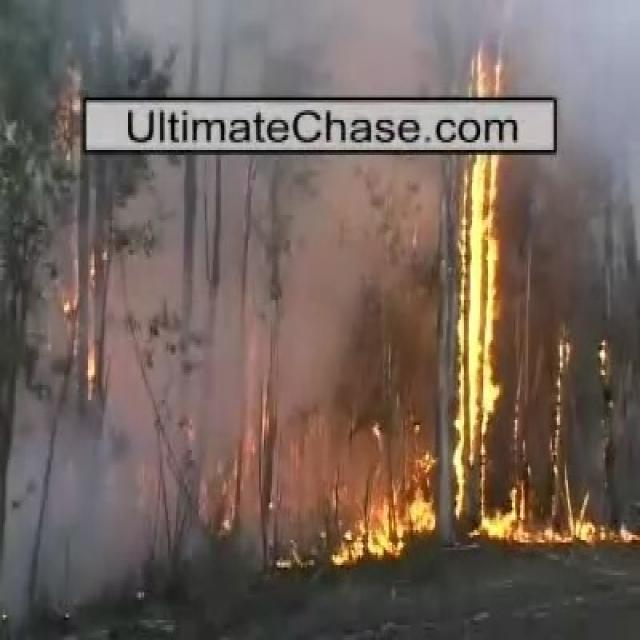fire: (455, 157, 498, 520), (336, 498, 436, 560)
smoke: (15, 431, 89, 600), (510, 0, 635, 92)
